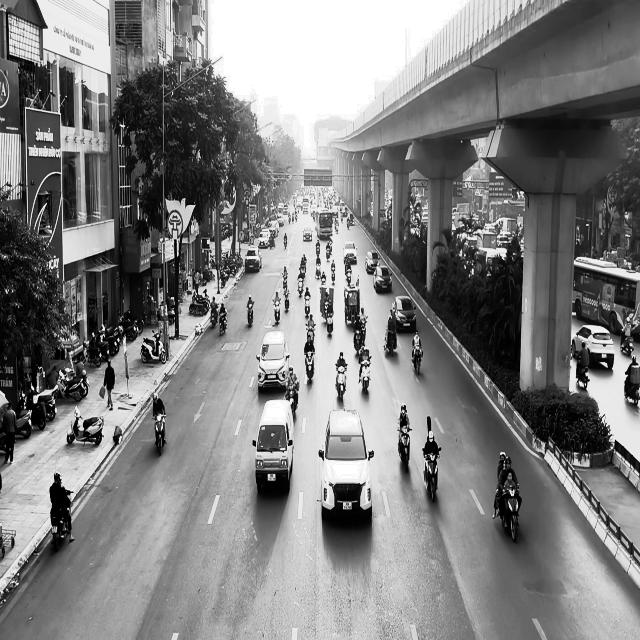bus: (572, 255, 640, 336)
car: (318, 408, 374, 521), (252, 399, 294, 493), (256, 330, 290, 390), (570, 325, 614, 370), (391, 295, 417, 333), (373, 266, 392, 292)
motorbike: (494, 484, 521, 542), (66, 406, 104, 446), (50, 490, 73, 551), (422, 446, 441, 502), (140, 329, 166, 364), (397, 424, 412, 472), (152, 412, 166, 456), (358, 356, 372, 393), (284, 380, 298, 416), (575, 354, 589, 390), (335, 365, 347, 401), (411, 344, 423, 374), (304, 350, 315, 382), (273, 298, 281, 324), (247, 301, 254, 327)
